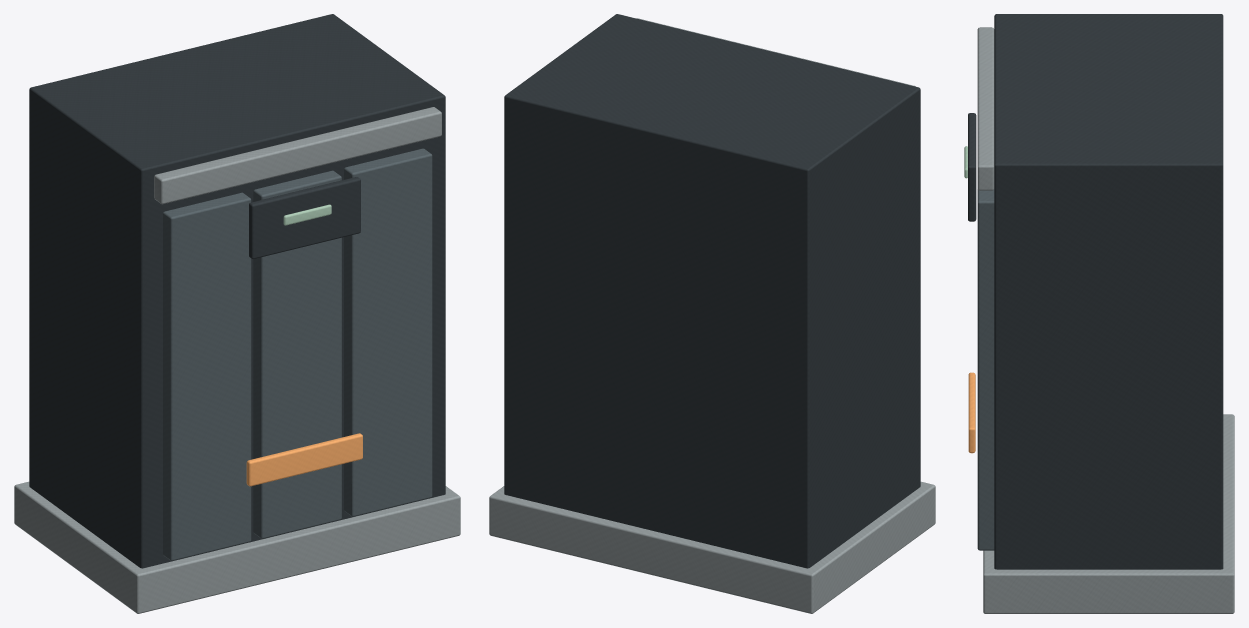
Rendered from FacilityBatteryBank.glb.
The picture shows the model from 3 angles, left to right: view 1: azimuth 30°, elevation 25°; view 2: azimuth 150°, elevation 25°; view 3: azimuth 270°, elevation 25°; orthographic projection.
Visible parts, largest first — view 1: FacilityBatteryBank_Mesh; view 2: FacilityBatteryBank_Mesh; view 3: FacilityBatteryBank_Mesh.
Part boxes in pixels (x1,y1,x2,y2): FacilityBatteryBank_Mesh: (14,14,460,613); FacilityBatteryBank_Mesh: (489,14,935,613); FacilityBatteryBank_Mesh: (964,14,1234,613).
Bounding box in the file's own units: 1.36 × 1.76 × 0.9675.
Materials: 5 (5 with a texture image).
